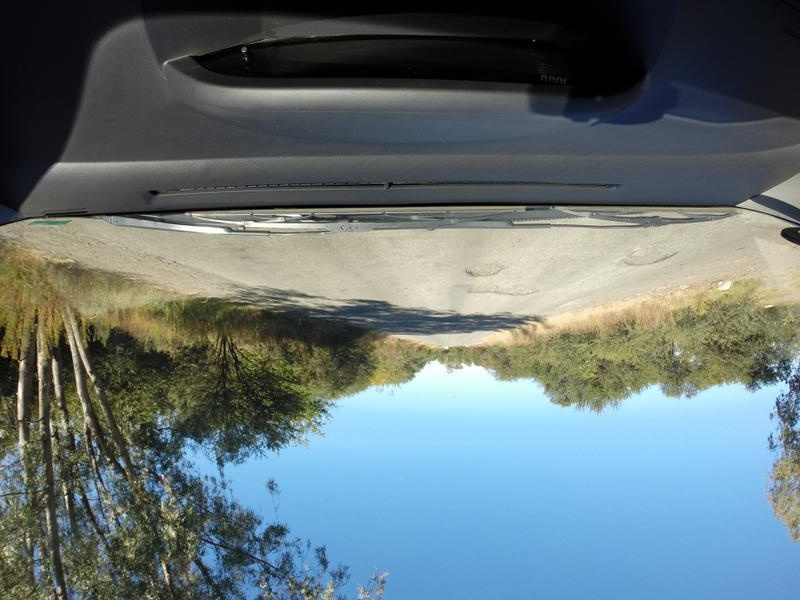pothole: (609, 243, 683, 266), (466, 280, 542, 299), (453, 261, 502, 278)
